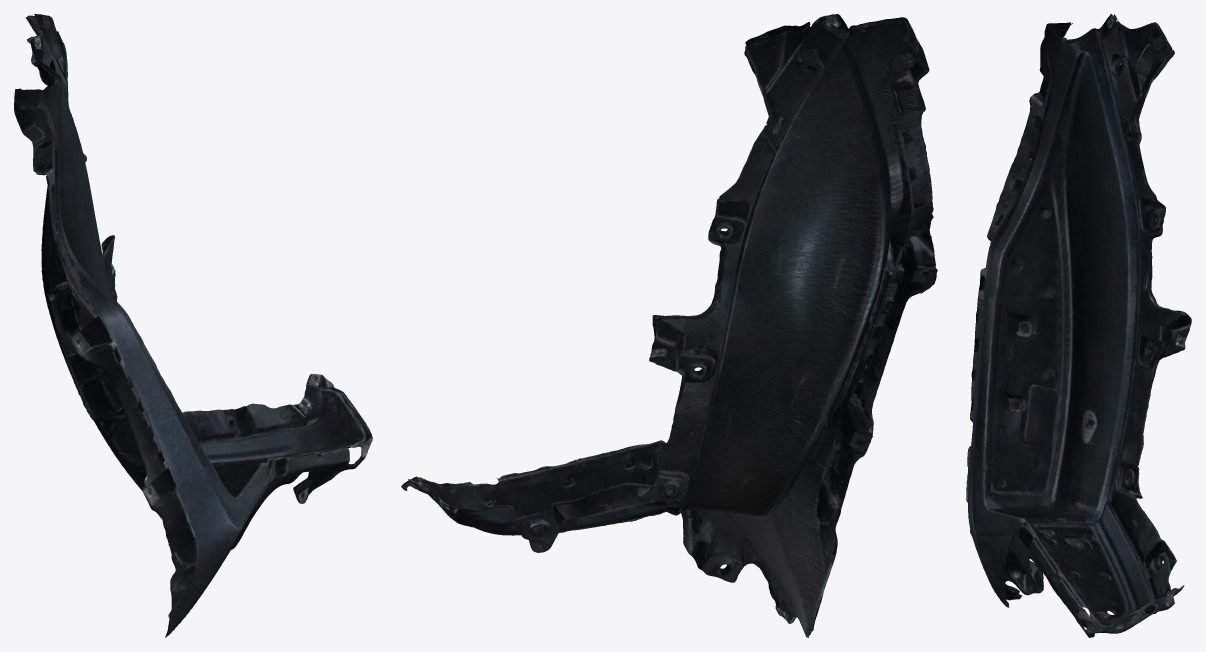
Rendered from SPD-38566X-B.obj.
3 renders of one model, left to right at view 1: azimuth 30°, elevation 25°; view 2: azimuth 150°, elevation 25°; view 3: azimuth 270°, elevation 25°, orthographic. The views are drawn at different scales.
Visible parts, largest first — view 1: SPD-38566X-B; view 2: SPD-38566X-B; view 3: SPD-38566X-B.
Part boxes in pixels (bbox=[...]): SPD-38566X-B: bbox=[14, 14, 372, 637]; SPD-38566X-B: bbox=[401, 14, 937, 637]; SPD-38566X-B: bbox=[966, 14, 1191, 637].
Size of the model in its own units: 523 by 754 by 277.
Materials: 1 (1 with a texture image).
